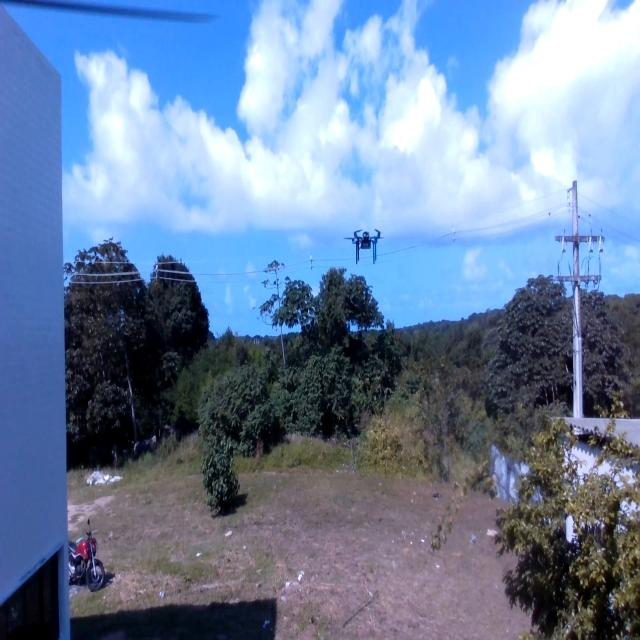-uav-: (344, 218, 386, 268)
